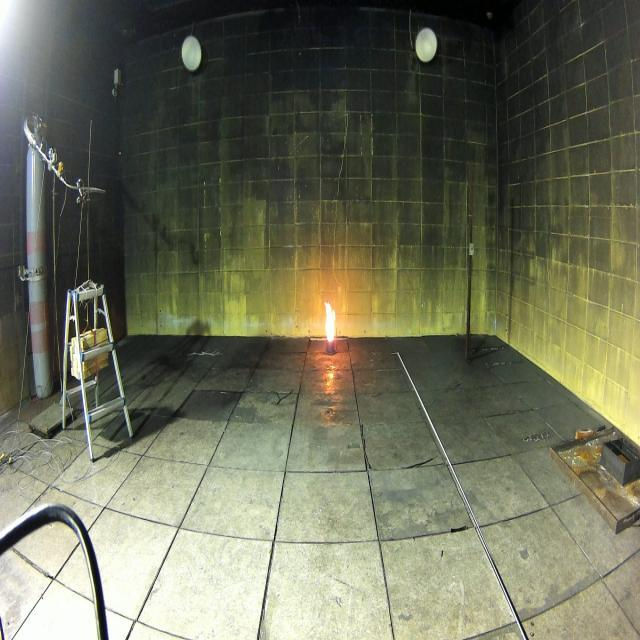Fire: (324, 302, 336, 342)
